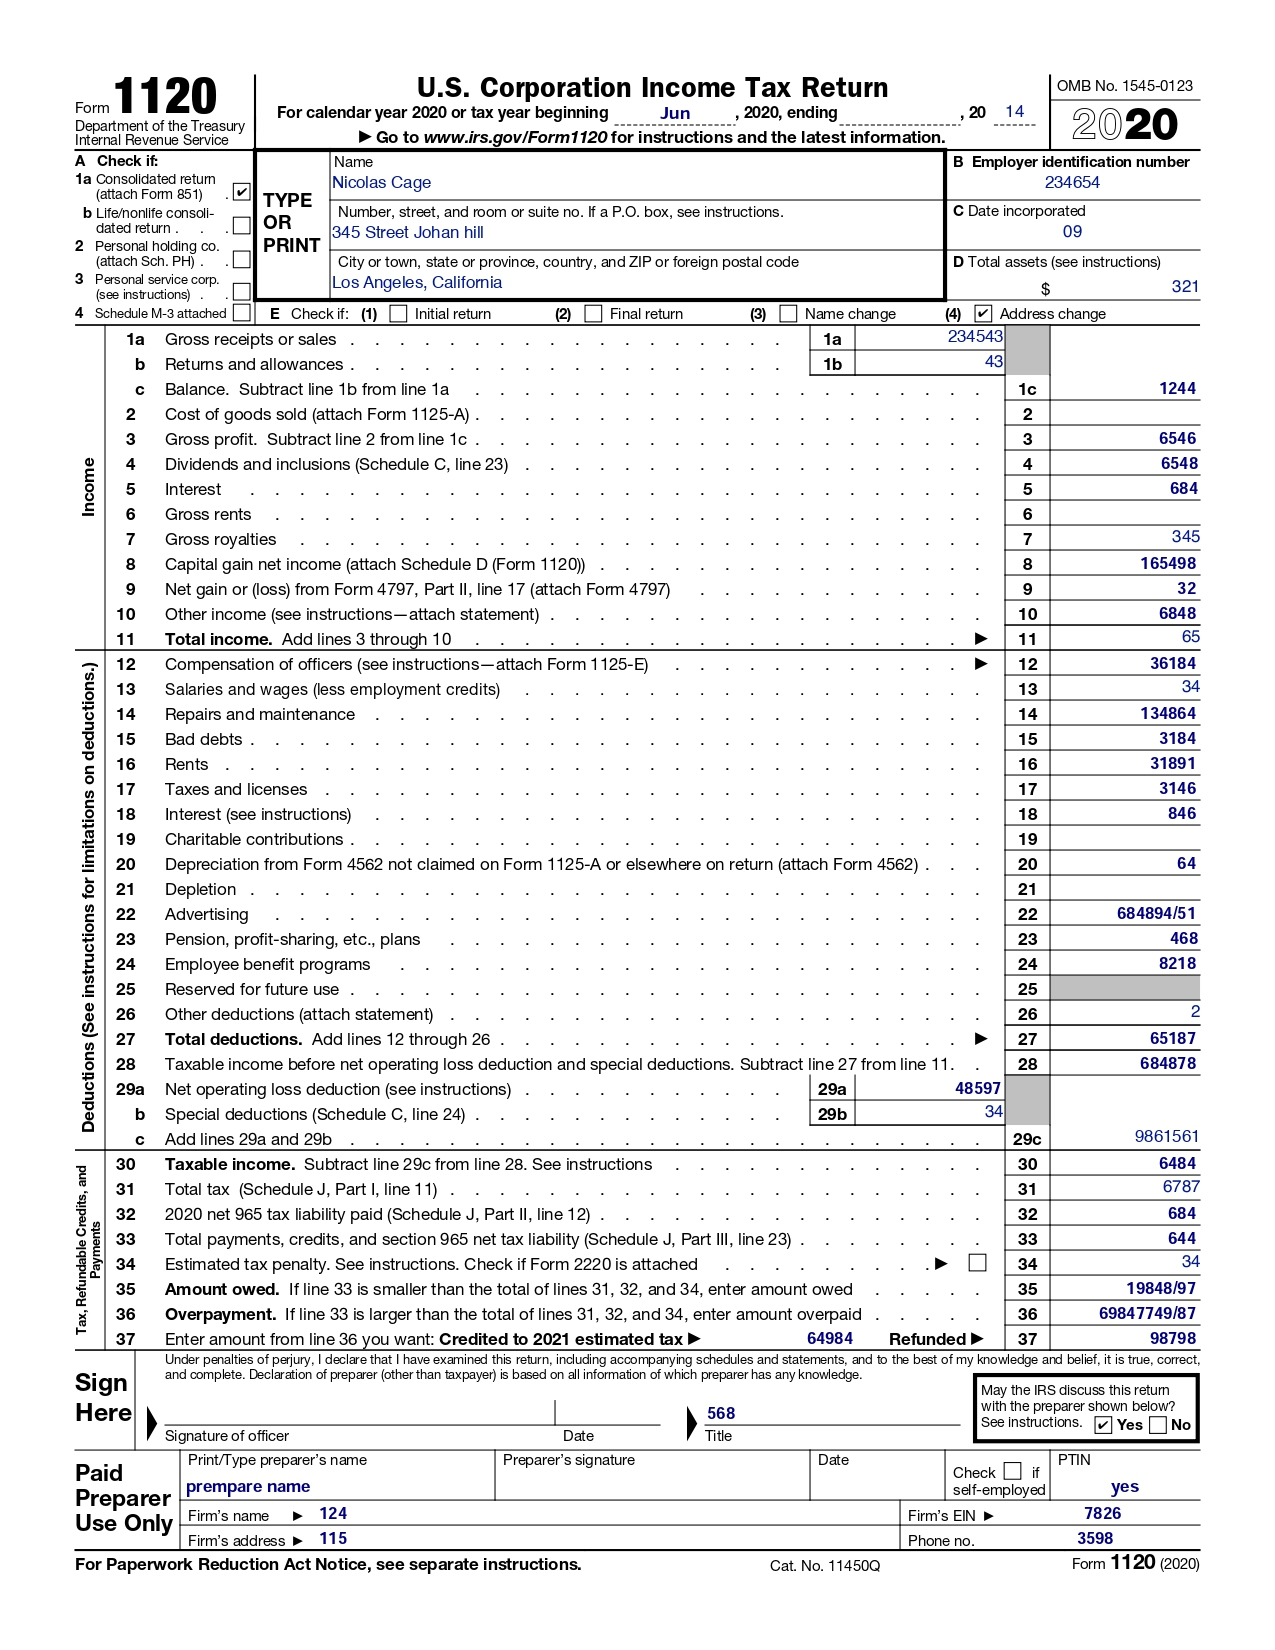form: (51, 54, 1217, 325), (36, 1351, 1221, 1551)
table: (44, 324, 1221, 1354)
